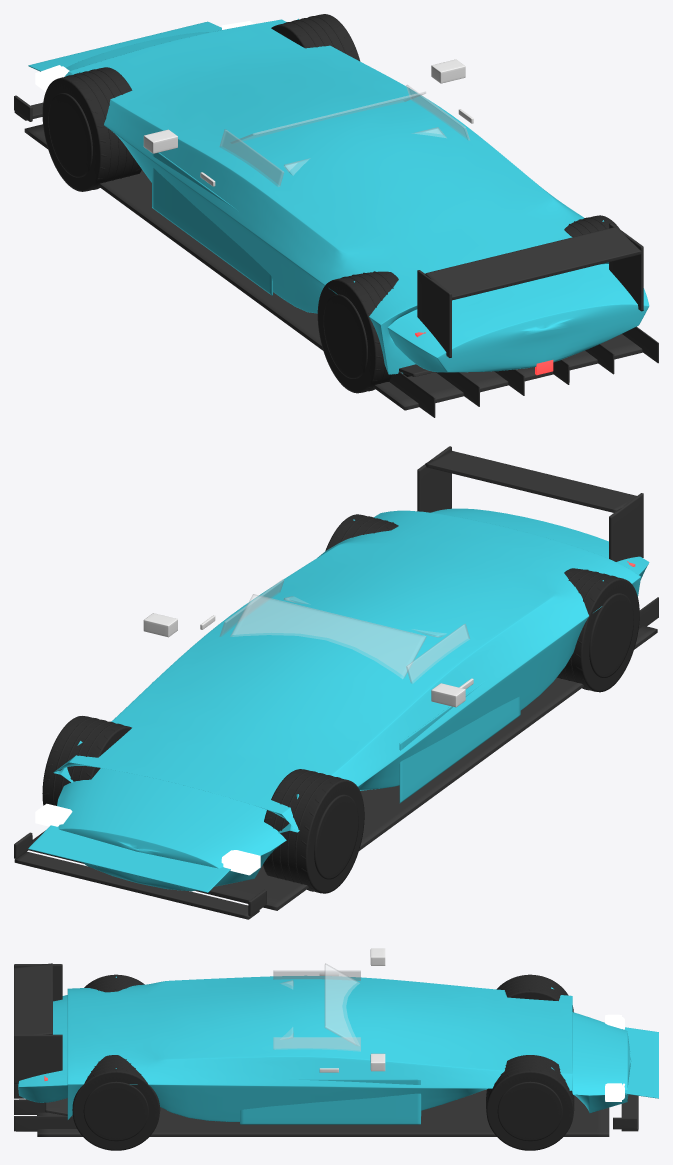
The model's file is vehicle.opt.glb.
3 renders of one model, top to bottom at view 1: azimuth 30°, elevation 25°; view 2: azimuth 150°, elevation 25°; view 3: azimuth 270°, elevation 25°, orthographic. The views are drawn at different scales.
Visible parts, largest first — view 1: BODY_MainShell, UNDERBODY_FlatFloor, AERO_2026_ActiveRearWing, WHEEL_FL_Tire, WHEEL_RL_Tire, BODY_Door_FL, GLASS_Greenhouse, WHEEL_FR_Tire, JEWELRY_Hardware, BODY_Hood, WHEEL_RR_Tire, LIGHTING_Headlamps; view 2: BODY_MainShell, WHEEL_FL_Tire, GLASS_Greenhouse, UNDERBODY_FlatFloor, AERO_2026_ActiveRearWing, WHEEL_RL_Tire, BODY_Hood, BODY_Door_FL, AERO_FrontSplitter, WHEEL_FR_Tire, JEWELRY_Hardware, LIGHTING_Headlamps (+1 smaller); view 3: BODY_MainShell, UNDERBODY_FlatFloor, WHEEL_FR_Tire, WHEEL_RR_Tire, AERO_2026_ActiveRearWing, BODY_Door_FR, GLASS_Greenhouse, BODY_Hood, WHEEL_FL_Tire, JEWELRY_Hardware, AERO_FrontSplitter, WHEEL_RL_Tire (+1 smaller).
Part boxes in pixels (<box>): BODY_MainShell: <box>64,18,649,374</box>; UNDERBODY_FlatFloor: <box>24,124,658,417</box>; AERO_2026_ActiveRearWing: <box>417,223,643,357</box>; WHEEL_FL_Tire: <box>42,67,141,191</box>; WHEEL_RL_Tire: <box>317,271,410,393</box>; BODY_Door_FL: <box>152,152,272,295</box>; GLASS_Greenhouse: <box>219,85,469,186</box>; WHEEL_FR_Tire: <box>271,14,360,61</box>; JEWELRY_Hardware: <box>143,59,473,186</box>; BODY_Hood: <box>28,21,221,71</box>; WHEEL_RR_Tire: <box>564,215,619,236</box>; LIGHTING_Headlamps: <box>35,21,253,91</box>; BODY_MainShell: <box>53,508,649,891</box>; WHEEL_FL_Tire: <box>263,769,364,893</box>; GLASS_Greenhouse: <box>219,579,469,683</box>; UNDERBODY_FlatFloor: <box>29,597,658,910</box>; AERO_2026_ActiveRearWing: <box>417,446,643,561</box>; WHEEL_RL_Tire: <box>557,568,639,692</box>; BODY_Hood: <box>28,825,230,892</box>; BODY_Door_FL: <box>399,680,520,803</box>; AERO_FrontSplitter: <box>14,832,266,919</box>; WHEEL_FR_Tire: <box>42,716,131,805</box>; JEWELRY_Hardware: <box>143,613,473,707</box>; LIGHTING_Headlamps: <box>35,803,260,875</box>; BODY_MainShell: <box>18,975,631,1121</box>; UNDERBODY_FlatFloor: <box>14,1083,609,1136</box>; WHEEL_FR_Tire: <box>486,1055,574,1150</box>; WHEEL_RR_Tire: <box>72,1055,160,1150</box>; AERO_2026_ActiveRearWing: <box>14,963,62,1083</box>; BODY_Door_FR: <box>240,1079,421,1124</box>; GLASS_Greenhouse: <box>273,963,360,1051</box>; BODY_Hood: <box>624,1027,658,1098</box>; WHEEL_FL_Tire: <box>496,974,573,1012</box>; JEWELRY_Hardware: <box>319,948,385,1072</box>; AERO_FrontSplitter: <box>613,1094,638,1131</box>; WHEEL_RL_Tire: <box>84,974,144,992</box>.
Size of what is drawn, in the model's own units: 2.23 by 0.9774 by 5.3.
